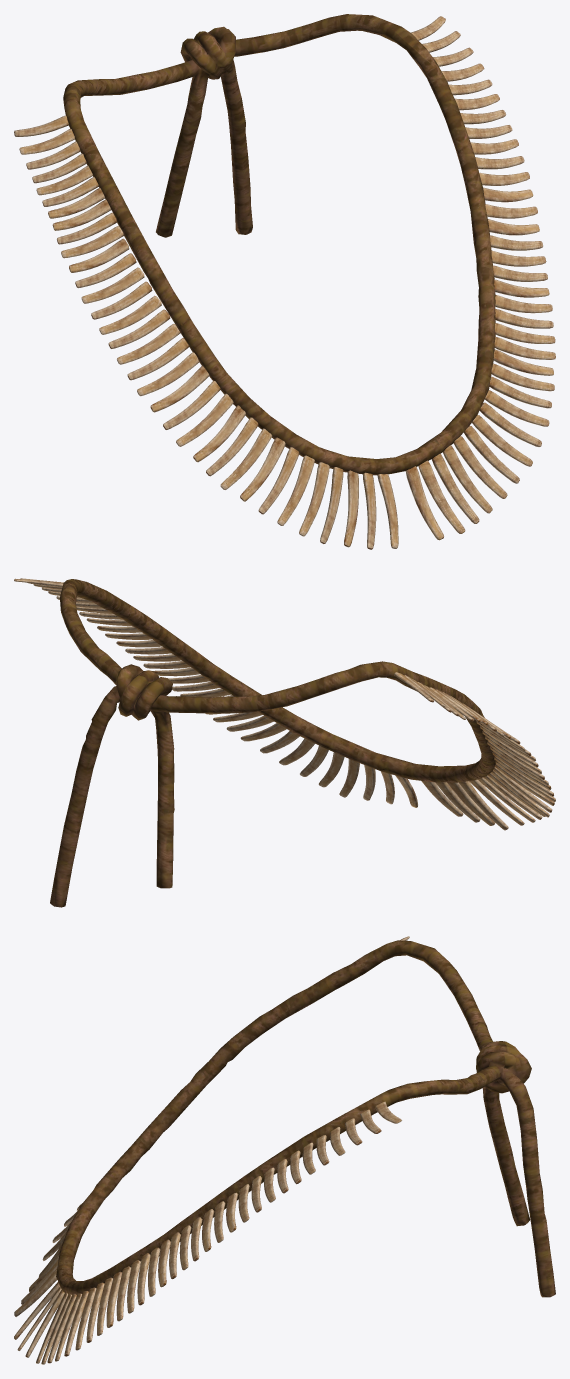
The model's file is SM_CollarCostillaCulebra.glb.
3 views of the same model, one above another, from view 1: azimuth 30°, elevation 25°; view 2: azimuth 150°, elevation 25°; view 3: azimuth 270°, elevation 25° (orthographic). The views are drawn at different scales.
Parts seen in each view (by area): view 1: CSerp_Cuerda_Low, CSerp_C01_Position_ignor, CSerp_C03_Position_ignor, CSerp_C01_Position.001_ignor, CSerp_C01_Position.017_ignor, CSerp_C02_Position.001_ignor, CSerp_C01_Position.018_ignor, CSerp_C01_Position.002_ignor, CSerp_C03_Position.006_ignor, CSerp_C01_Position.019_ignor, CSerp_C01_Position.016_ignor, CSerp_C03_Position.007_ignor (+29 smaller); view 2: CSerp_Cuerda_Low, CSerp_C02_Position.015_ignor, CSerp_C03_Position.005_ignor, CSerp_C02_Position.014_ignor, CSerp_C01_Position.017_ignor, CSerp_C01_Position.018_ignor, CSerp_C01_Position.016_ignor; view 3: CSerp_Cuerda_Low.
Boxes of the visible parts, x1,y1,x2,y2 form: CSerp_Cuerda_Low: [63, 14, 495, 475]; CSerp_C01_Position_ignor: [418, 460, 465, 533]; CSerp_C03_Position_ignor: [405, 466, 443, 540]; CSerp_C01_Position.001_ignor: [442, 445, 492, 513]; CSerp_C01_Position.017_ignor: [299, 462, 329, 536]; CSerp_C02_Position.001_ignor: [431, 453, 479, 523]; CSerp_C01_Position.018_ignor: [277, 455, 314, 525]; CSerp_C01_Position.002_ignor: [453, 436, 507, 498]; CSerp_C03_Position.006_ignor: [240, 437, 285, 501]; CSerp_C01_Position.019_ignor: [220, 428, 272, 489]; CSerp_C01_Position.016_ignor: [377, 474, 398, 548]; CSerp_C03_Position.007_ignor: [193, 405, 245, 462]; CSerp_Cuerda_Low: [50, 579, 495, 907]; CSerp_C02_Position.015_ignor: [458, 781, 508, 830]; CSerp_C03_Position.005_ignor: [447, 782, 494, 825]; CSerp_C02_Position.014_ignor: [435, 782, 480, 822]; CSerp_C01_Position.017_ignor: [469, 779, 524, 825]; CSerp_C01_Position.018_ignor: [477, 777, 535, 822]; CSerp_C01_Position.016_ignor: [421, 781, 463, 816]; CSerp_Cuerda_Low: [56, 940, 555, 1297].
Size of the model in its own units: 0.2671 by 0.1916 by 0.2917.
Materials: 1 (1 with a texture image).
